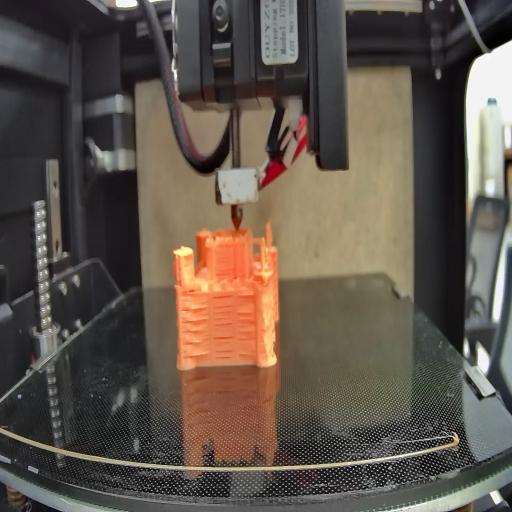cracks: (180, 304, 208, 362), (237, 309, 255, 356), (214, 297, 235, 331), (214, 332, 236, 363), (184, 283, 200, 297), (238, 293, 257, 301), (216, 268, 234, 274)
